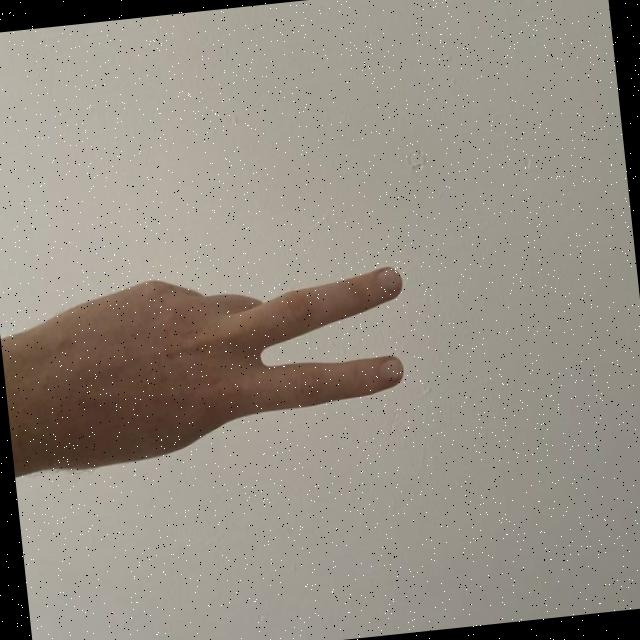scissors: (96, 246, 420, 471)
